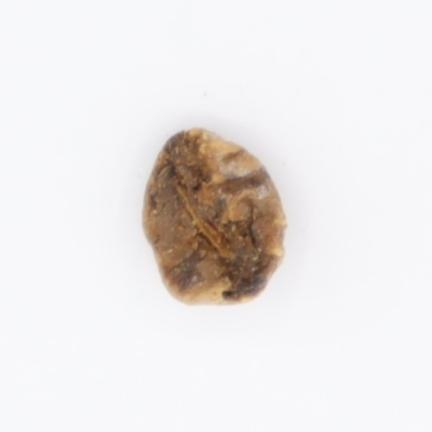partial-black: (144, 129, 284, 303)
